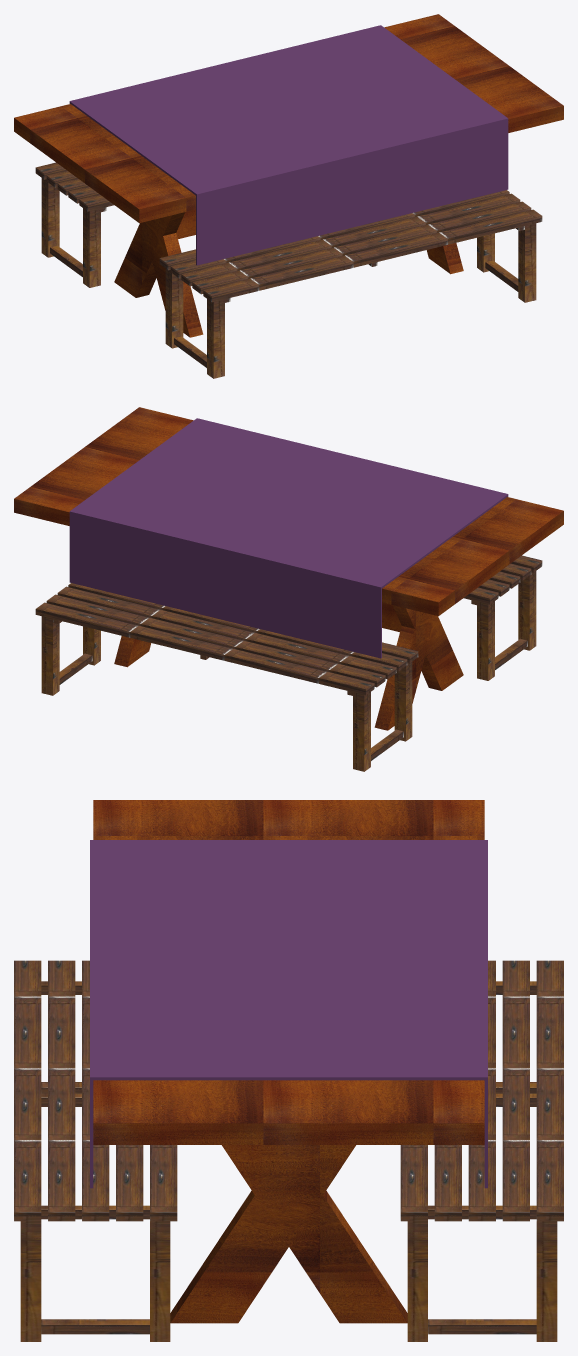
The picture shows the model from 3 angles, top to bottom: view 1: azimuth 30°, elevation 25°; view 2: azimuth 150°, elevation 25°; view 3: azimuth 270°, elevation 25°; orthographic projection. The views are drawn at different scales.
Visible parts, largest first — view 1: mesh7_mesh7-geometry, mesh1_mesh1-geometry, mesh11_mesh11-geometry, mesh9_mesh9-geometry, mesh3_mesh3-geometry, mesh15_mesh15-geometry; view 2: mesh7_mesh7-geometry, mesh1_mesh1-geometry, mesh11_mesh11-geometry, mesh9_mesh9-geometry, mesh3_mesh3-geometry, mesh15_mesh15-geometry; view 3: mesh7_mesh7-geometry, mesh11_mesh11-geometry, mesh1_mesh1-geometry, mesh3_mesh3-geometry, mesh9_mesh9-geometry, mesh15_mesh15-geometry, mesh13_mesh13-geometry.
Boxes of the visible parts, x1,y1,x2,y2 form: mesh7_mesh7-geometry: (69,25,508,265); mesh1_mesh1-geometry: (14,14,563,223); mesh11_mesh11-geometry: (35,162,542,302); mesh9_mesh9-geometry: (41,178,536,378); mesh3_mesh3-geometry: (114,212,463,337); mesh15_mesh15-geometry: (50,245,518,367); mesh7_mesh7-geometry: (69,418,508,658); mesh1_mesh1-geometry: (14,407,563,616); mesh11_mesh11-geometry: (35,555,542,695); mesh9_mesh9-geometry: (41,571,536,771); mesh3_mesh3-geometry: (114,605,463,730); mesh15_mesh15-geometry: (59,638,527,760); mesh7_mesh7-geometry: (90,840,487,1188); mesh11_mesh11-geometry: (14,960,563,1221); mesh1_mesh1-geometry: (93,800,484,1144); mesh3_mesh3-geometry: (170,1145,407,1323); mesh9_mesh9-geometry: (20,1221,557,1341); mesh15_mesh15-geometry: (41,1082,536,1334); mesh13_mesh13-geometry: (41,981,536,1219).
Bounding box in the file's own units: 0.7767 × 0.2915 × 0.5583.
